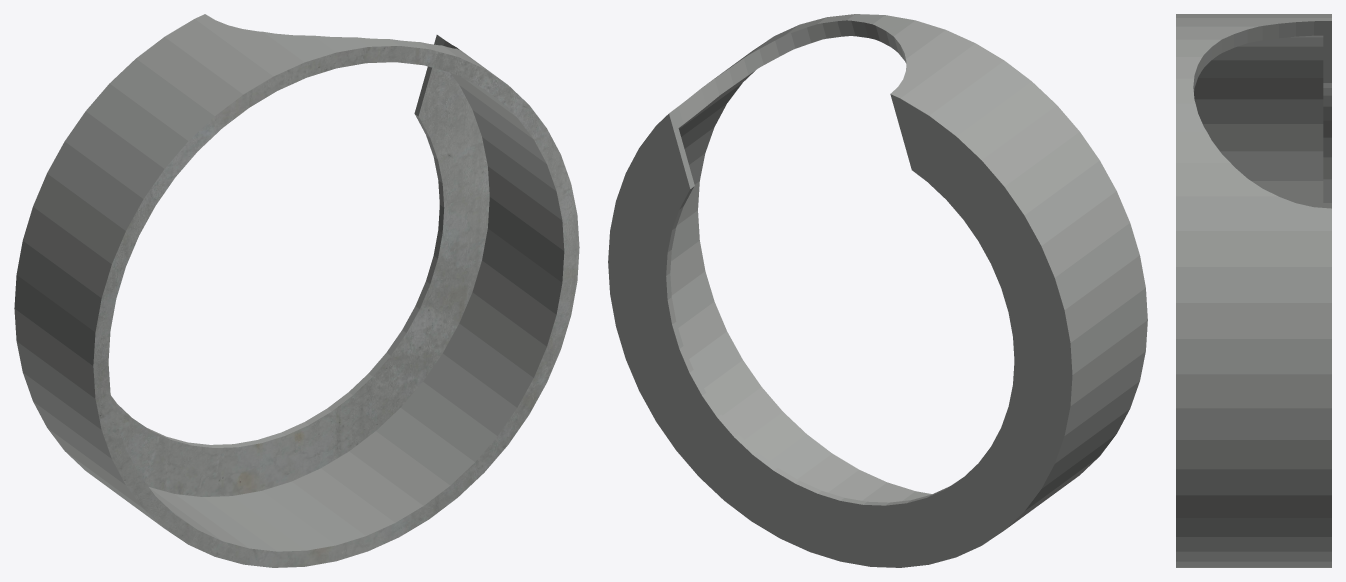
Rendered from pool_014.obj.
The picture shows the model from 3 angles, left to right: view 1: azimuth 30°, elevation 25°; view 2: azimuth 150°, elevation 25°; view 3: azimuth 270°, elevation 25°; orthographic projection. The views are drawn at different scales.
Size of the model in its own units: 32 by 32 by 9.
